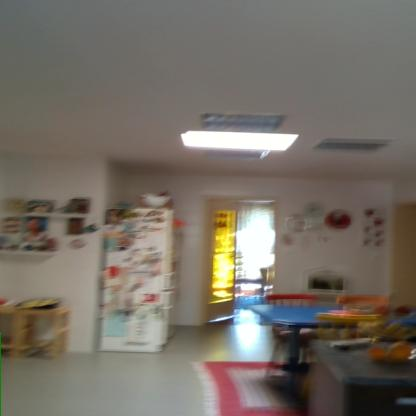semi: (192, 191, 283, 331)
